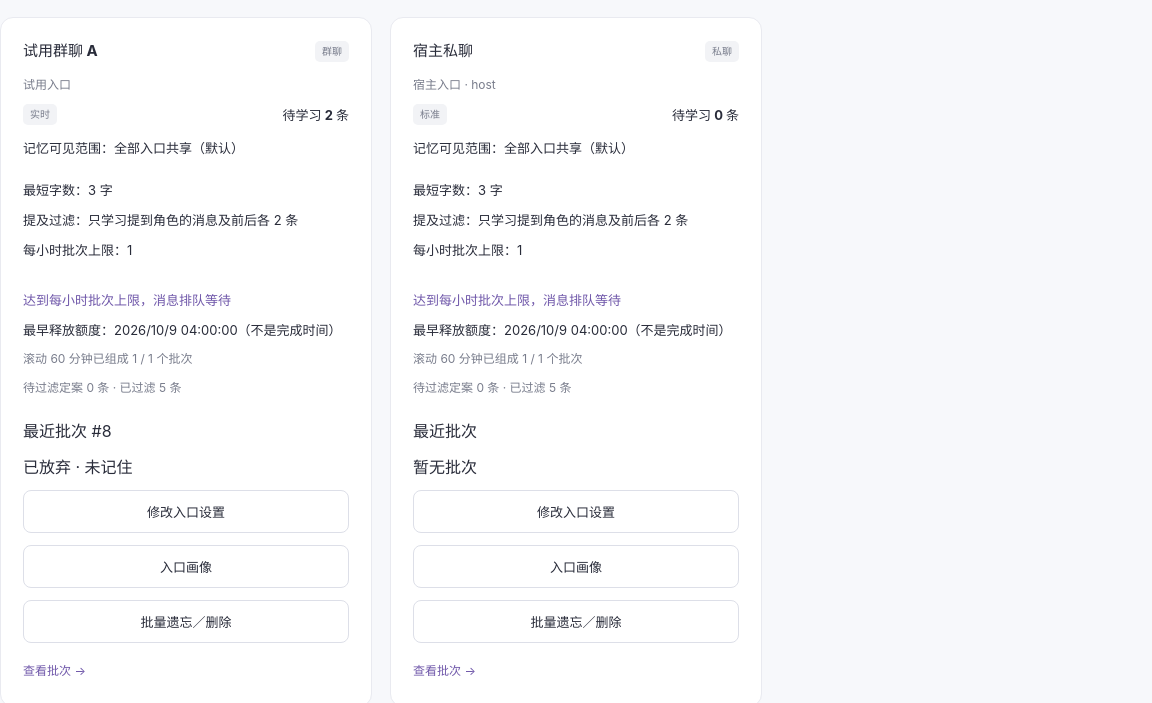
批次详情显示媒体缩略图与理解状态，已清理占位保持原样
This screenshot has width=1152, height=703.
(page scrolled)
What coordinates should you click on to do the following:
click the button "查看批次 →" below "已放弃 · 未记住"
I would click on:
 (54, 670)
Its box is [23,655,86,684].
(page scrolled)
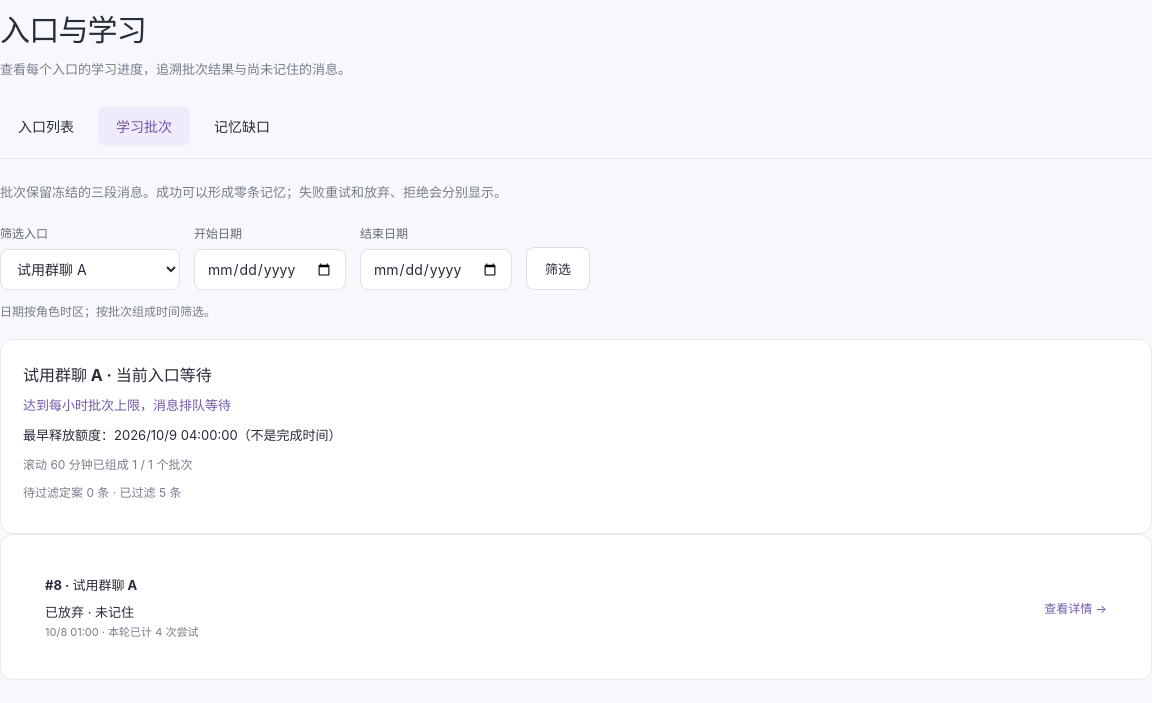
What coordinates should you click on to do the following:
click the button with aria-label "查看批次 #8"
I would click on:
 (1076, 607)
Its box is [1044,593,1107,622].
(page scrolled)
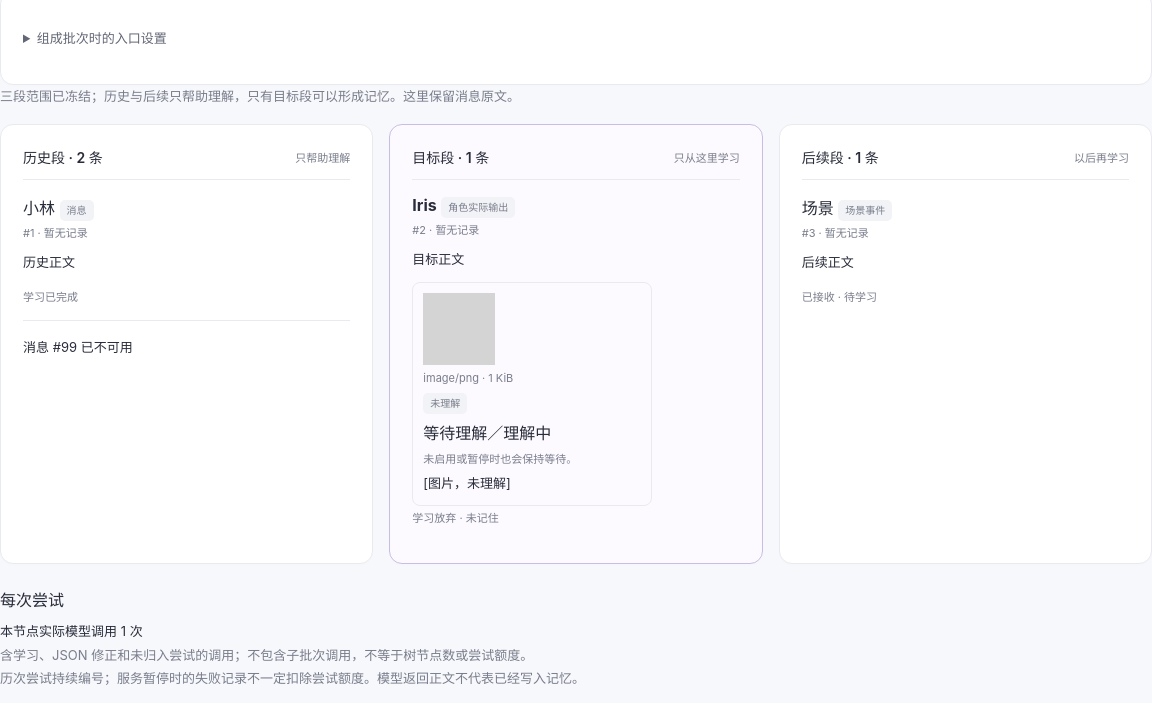
expect the text "等待理解／理解中" is shown: met, box [423,423,551,443]
expect the text "[图片，未理解]" is shown: met, box [423,475,511,491]
expect the text "消息 #99 已不可用" is shown: met, box [23,339,133,355]
